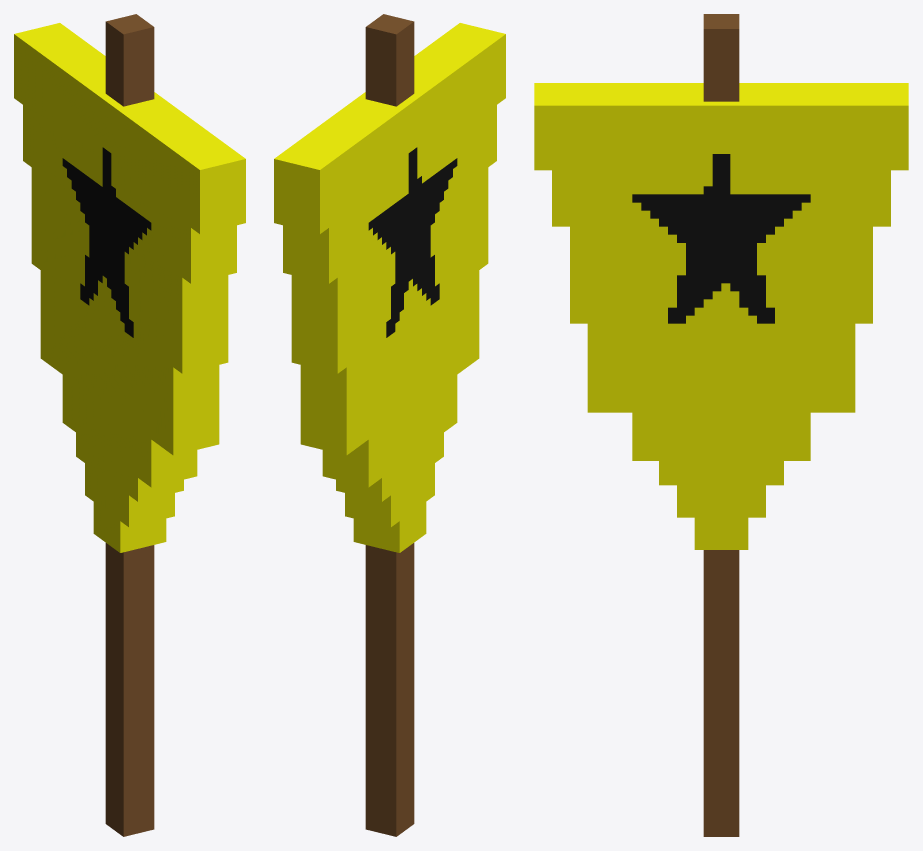
The model's file is Leader.obj.
3 renders of one model, left to right at view 1: azimuth 30°, elevation 25°; view 2: azimuth 150°, elevation 25°; view 3: azimuth 270°, elevation 25°, orthographic.
Size of the model in its own units: 0.6 by 10 by 4.2.
Materials: 1 (1 with a texture image).
